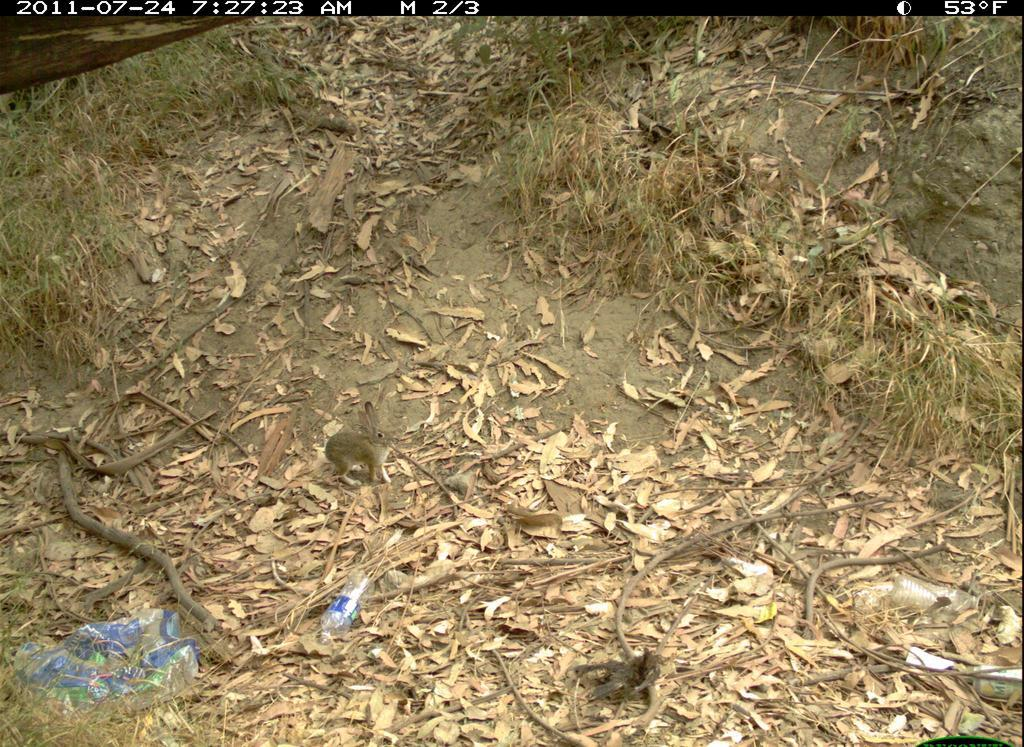rabbit: (322, 399, 404, 491)
